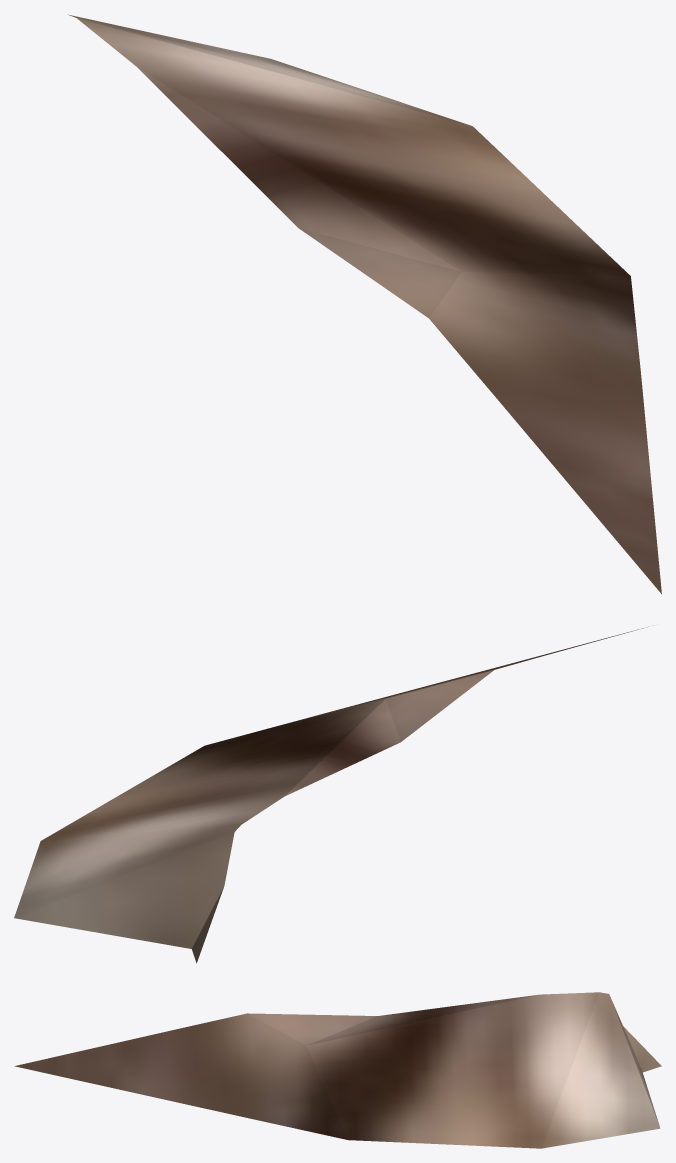
The picture shows the model from 3 angles, top to bottom: view 1: azimuth 30°, elevation 25°; view 2: azimuth 150°, elevation 25°; view 3: azimuth 270°, elevation 25°; orthographic projection. The views are drawn at different scales.
Size of the model in its own units: 0.0868 by 0.0363 by 0.2883.
Materials: 1 (1 with a texture image).
